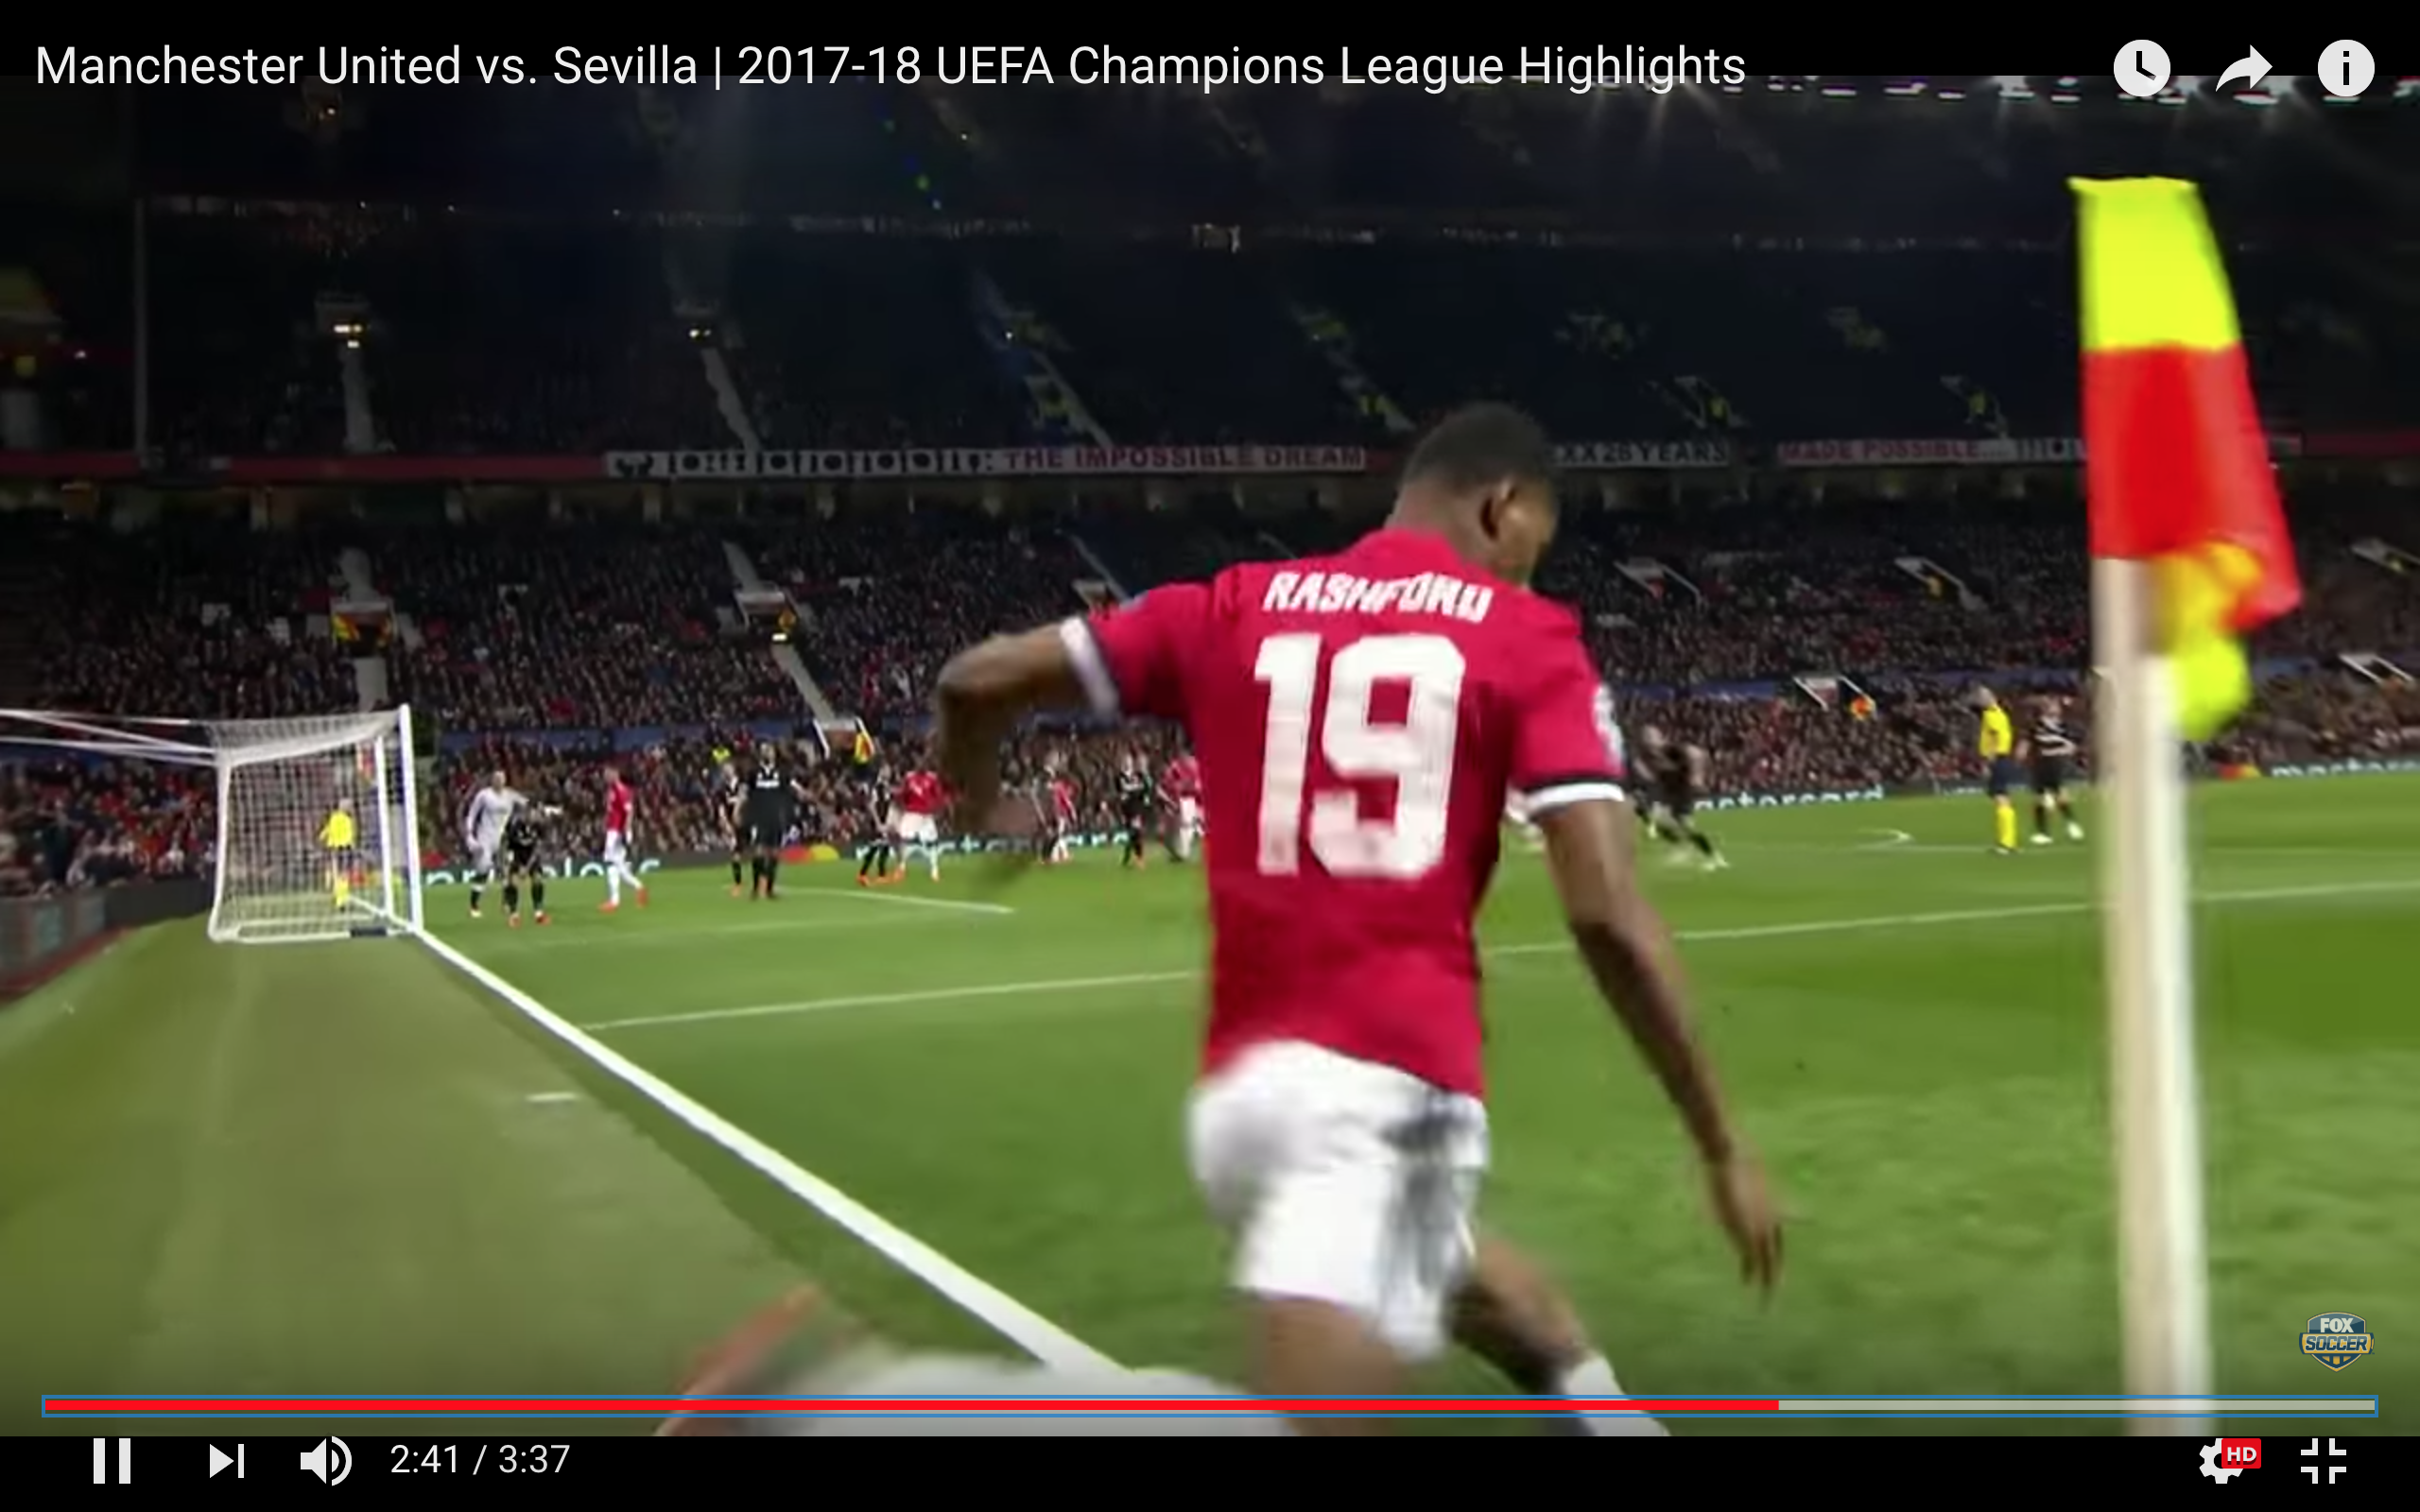soccer player: (920, 405, 1819, 1394), (1634, 717, 1735, 873), (459, 761, 536, 919), (2031, 694, 2087, 852), (1975, 681, 2021, 868), (600, 758, 654, 921), (500, 797, 562, 926), (851, 753, 902, 893), (753, 735, 794, 893), (311, 797, 360, 911), (1116, 753, 1145, 866)
